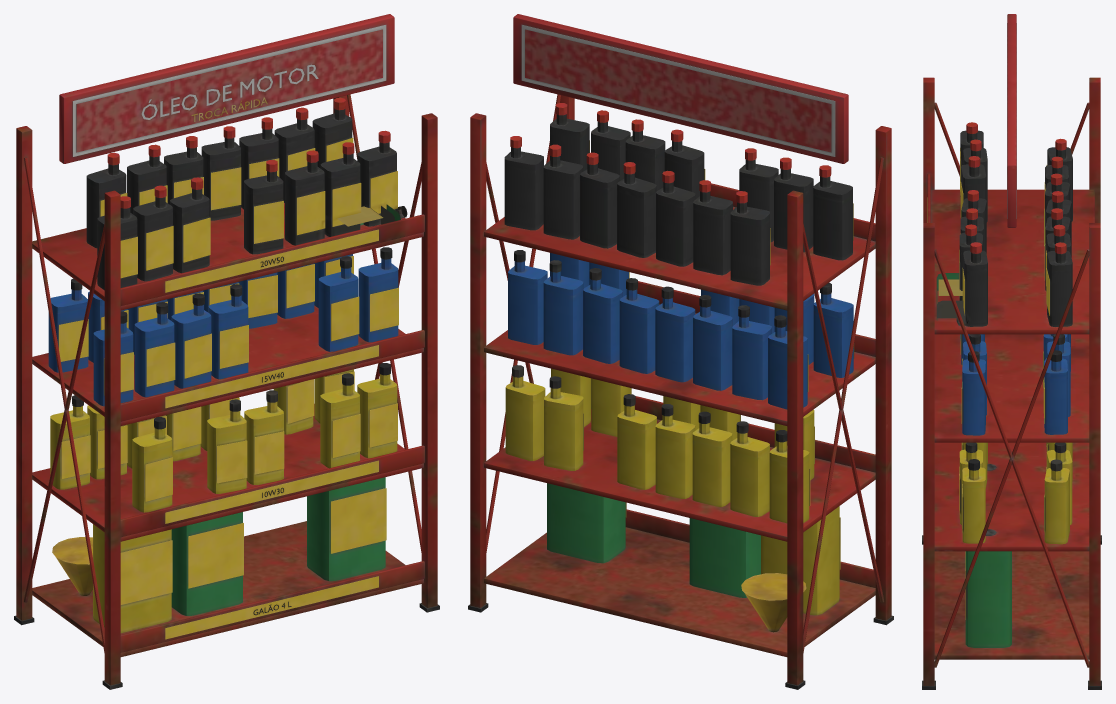
The model's file is expositor_oleo.glb.
The picture shows the model from 3 angles, left to right: view 1: azimuth 30°, elevation 25°; view 2: azimuth 150°, elevation 25°; view 3: azimuth 270°, elevation 25°; orthographic projection. The views are drawn at different scales.
Parts seen in each view (by area): view 1: expositor; view 2: expositor; view 3: expositor.
Part boxes in pixels (bbox=[...]): expositor: bbox=[14, 14, 439, 689]; expositor: bbox=[468, 14, 893, 689]; expositor: bbox=[922, 14, 1101, 689].
Bounding box in the file's own units: 0.93 × 1.5 × 0.466.
1 material, 1 textured.
